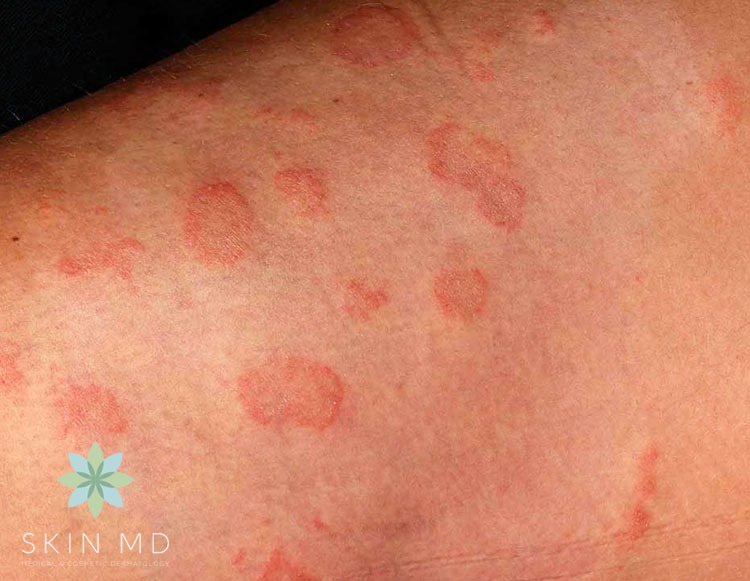Ringworm: (410, 108, 550, 237), (212, 345, 373, 445), (170, 172, 270, 278), (612, 433, 683, 570), (320, 0, 433, 73), (43, 225, 152, 288), (422, 250, 502, 330), (58, 377, 140, 442), (330, 262, 403, 333), (267, 162, 338, 227)
